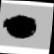correct: (1, 12, 39, 41)
